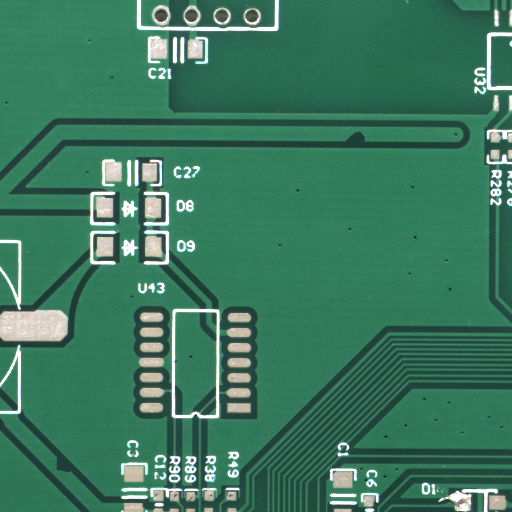Mouse_bite: (356, 138, 392, 156), (62, 463, 83, 488)
